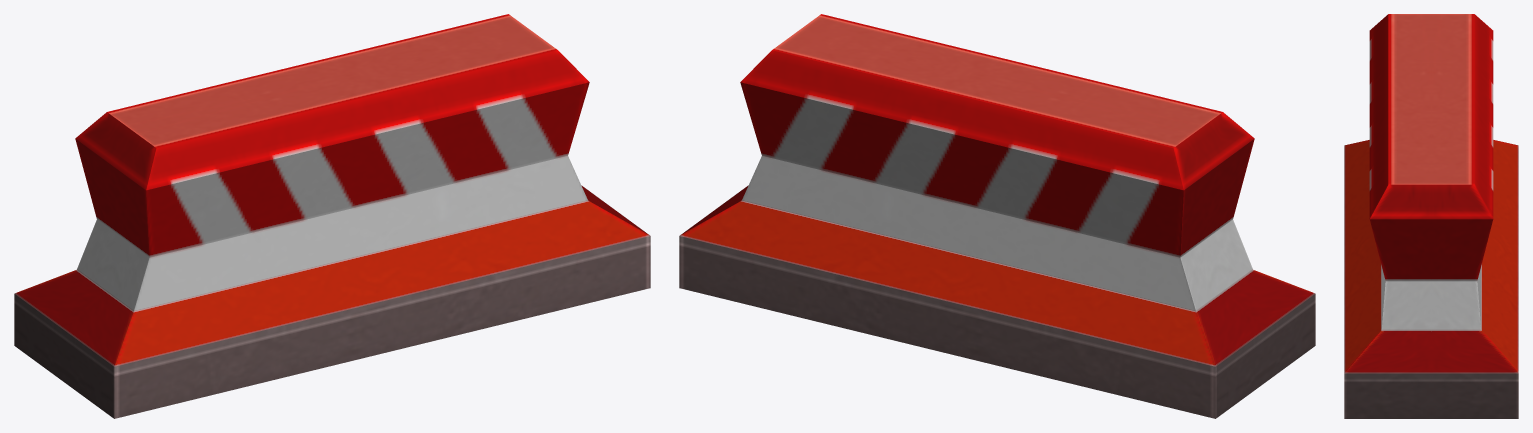
File: Block_Ai.FBX
3 renders of one model, left to right at view 1: azimuth 30°, elevation 25°; view 2: azimuth 150°, elevation 25°; view 3: azimuth 270°, elevation 25°, orthographic. The views are drawn at different scales.
Parts seen in each view (by area): view 1: Block_Ai; view 2: Block_Ai; view 3: Block_Ai.
Boxes of the visible parts, bbox=[...] form: Block_Ai: bbox=[14, 14, 650, 418]; Block_Ai: bbox=[679, 14, 1315, 418]; Block_Ai: bbox=[1344, 14, 1518, 418].
Bounding box in the file's own units: 160 × 67.07 × 51.59.
